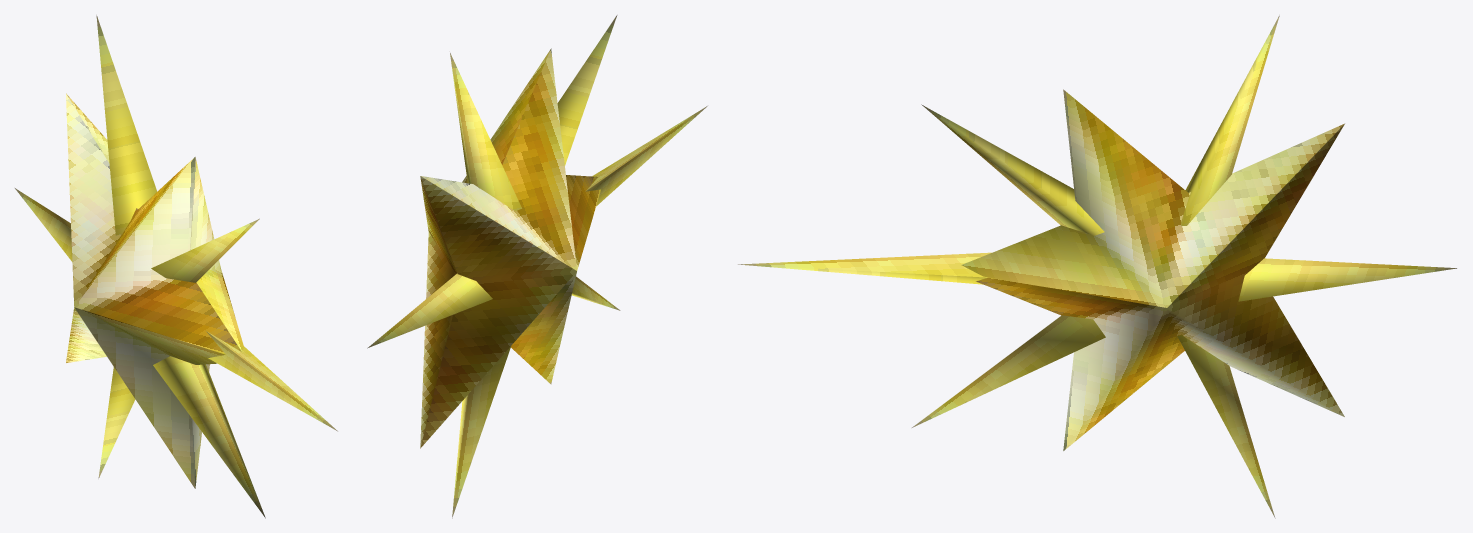
3 renders of one model, left to right at view 1: azimuth 30°, elevation 25°; view 2: azimuth 150°, elevation 25°; view 3: azimuth 270°, elevation 25°, orthographic. The views are drawn at different scales.
Visible parts, largest first — view 1: model_Object05; view 2: model_Object05; view 3: model_Object05.
Part boxes in pixels (x1,y1,x2,y2): model_Object05: [15, 15, 337, 518]; model_Object05: [367, 15, 707, 518]; model_Object05: [738, 15, 1456, 518].
Size of the model in its own units: 0.3656 by 1.1 by 1.43.
Materials: 1 (1 with a texture image).
